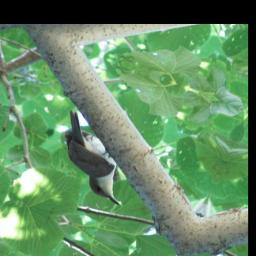Cuckoo: (39, 108, 152, 207)
